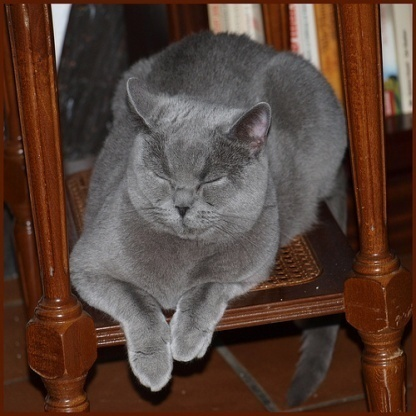british_shorthair: (71, 32, 346, 391)
